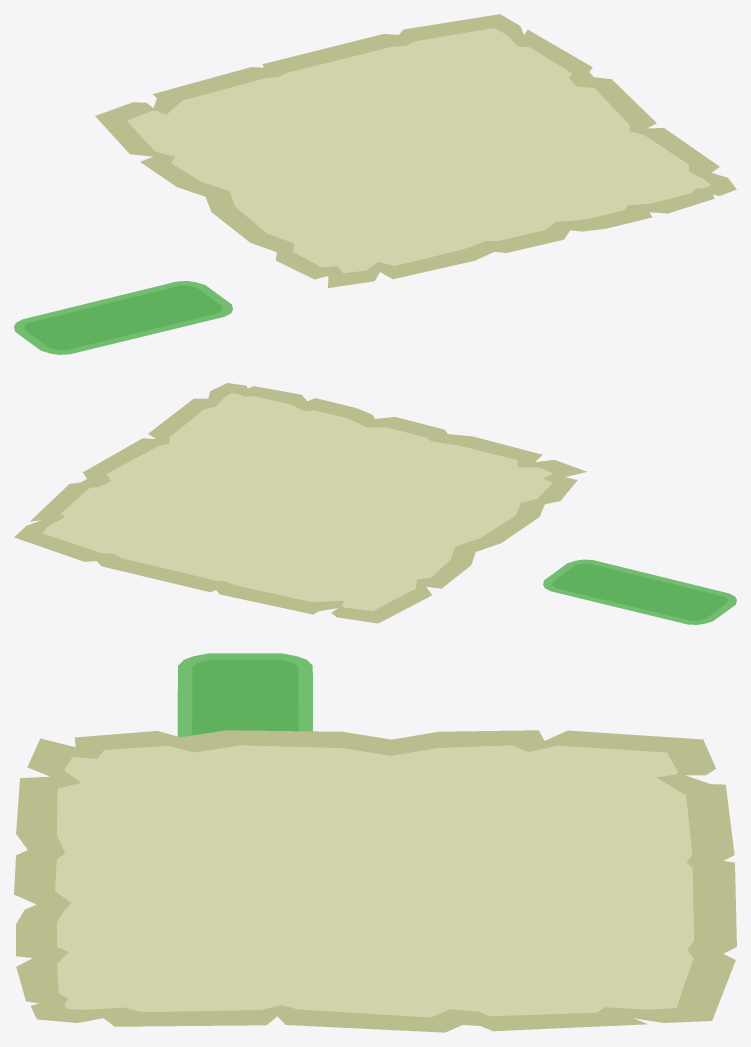
File: ball_shop_toolkit.glb
The picture shows the model from 3 angles, top to bottom: view 1: azimuth 30°, elevation 25°; view 2: azimuth 150°, elevation 25°; view 3: azimuth 270°, elevation 25°; orthographic projection. The views are drawn at different scales.
Visible parts, largest first — view 1: ball_toolkit; view 2: ball_toolkit; view 3: ball_toolkit.
Part boxes in pixels (left/top/right/bottom): ball_toolkit: left=14, top=14, right=736, bottom=354; ball_toolkit: left=14, top=383, right=736, bottom=624; ball_toolkit: left=14, top=653, right=736, bottom=1032.
Size of the model in its own units: 1.29 by 0.0957 by 0.8746.
Materials: 1 (1 with a texture image).
